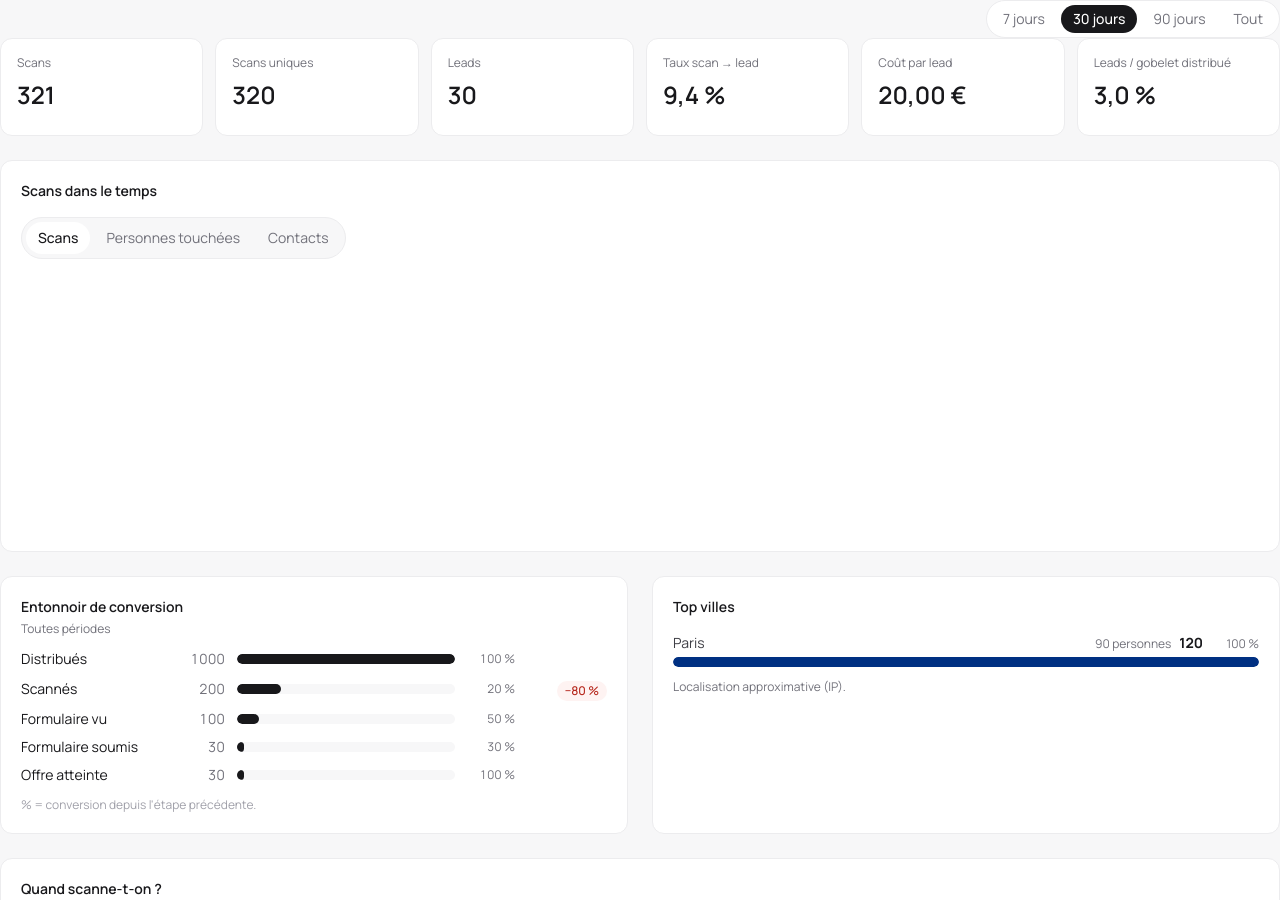
Test case: CampaignAnalyticsPanel › period switching › dims the previous content while the next period loads, then shows the new data
The width and height of the screenshot is (1280, 900).
Check: the text "321" is shown, box [17,78,55,111]
Click the button "7 jours" at (1024,19), box [991,5,1057,33]
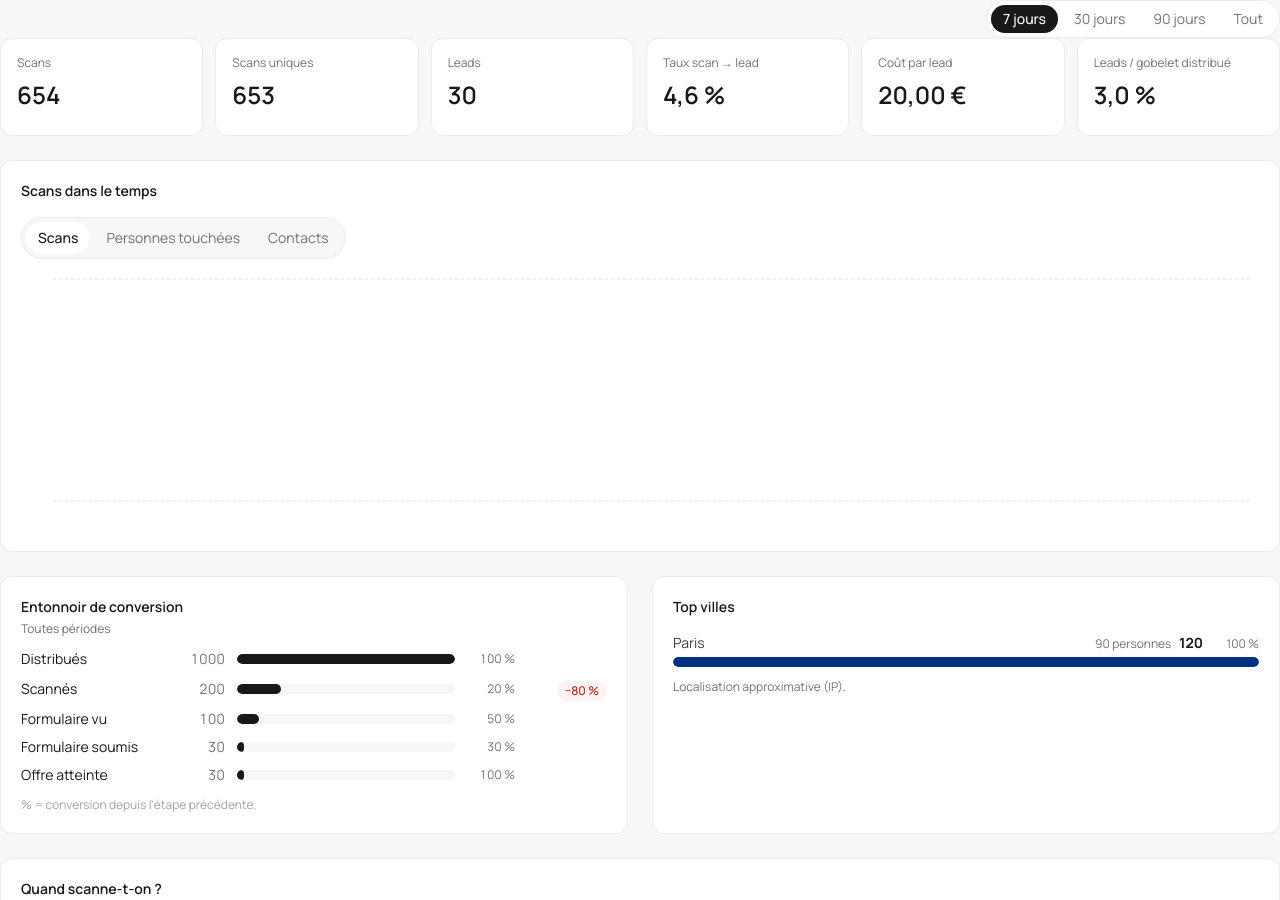
Check: the text "654" is shown, box [17,78,60,111]
Check: the text "321" is gone
